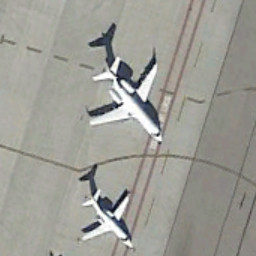Airplane: (85, 49, 172, 148), (75, 187, 138, 253)
